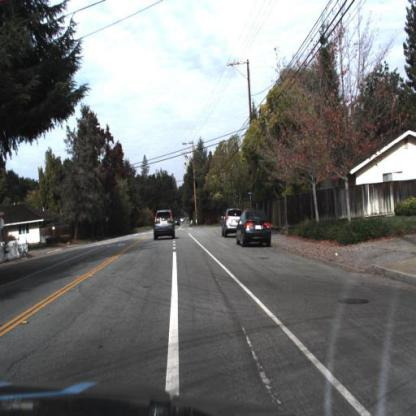car: (235, 207, 274, 253), (149, 206, 180, 247), (220, 204, 246, 240), (220, 206, 239, 245)
